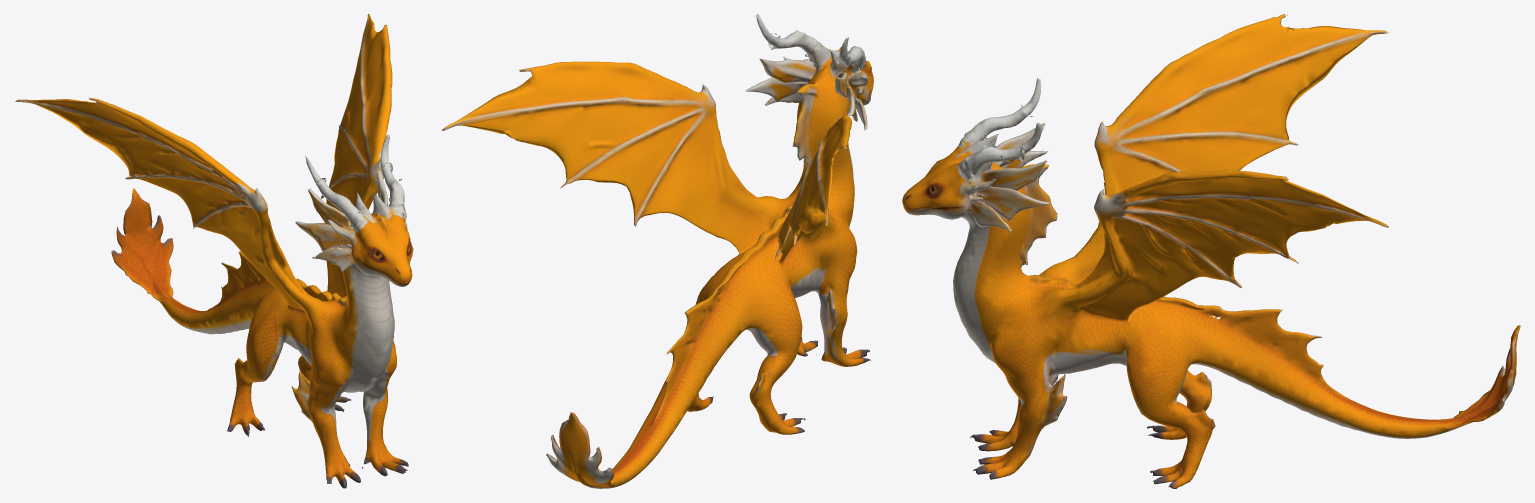
File: sand_dragon.glb
3 renders of one model, left to right at view 1: azimuth 30°, elevation 25°; view 2: azimuth 150°, elevation 25°; view 3: azimuth 270°, elevation 25°, orthographic. The views are drawn at different scales.
Bounding box in the file's own units: 1.49 × 1.29 × 2.
Materials: 1 (1 with a texture image).
